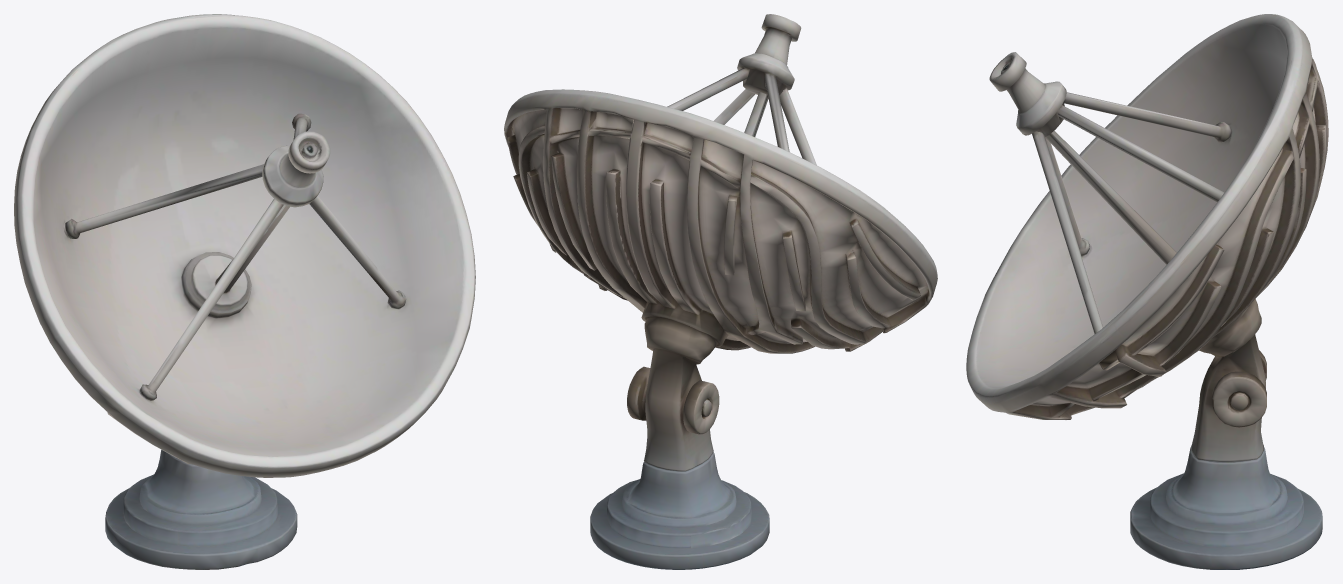
File: a_satellite_dish_2dae6111_v2.glb
3 views of the same model, side by side, from view 1: azimuth 30°, elevation 25°; view 2: azimuth 150°, elevation 25°; view 3: azimuth 270°, elevation 25° (orthographic). The views are drawn at different scales.
Visible parts, largest first — view 1: material; view 2: material; view 3: material.
Boxes of the visible parts, x1,y1,x2,y2 form: material: (14, 14, 475, 569); material: (504, 14, 937, 569); material: (966, 14, 1328, 569).
Bounding box in the file's own units: 1.74 × 1.9 × 1.29.
Materials: 1 (1 with a texture image).
